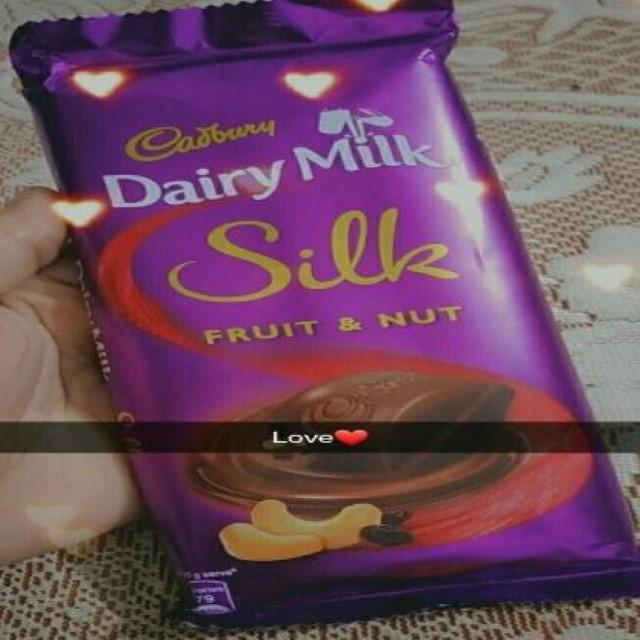cadbury_chocolate: (23, 19, 640, 611)
